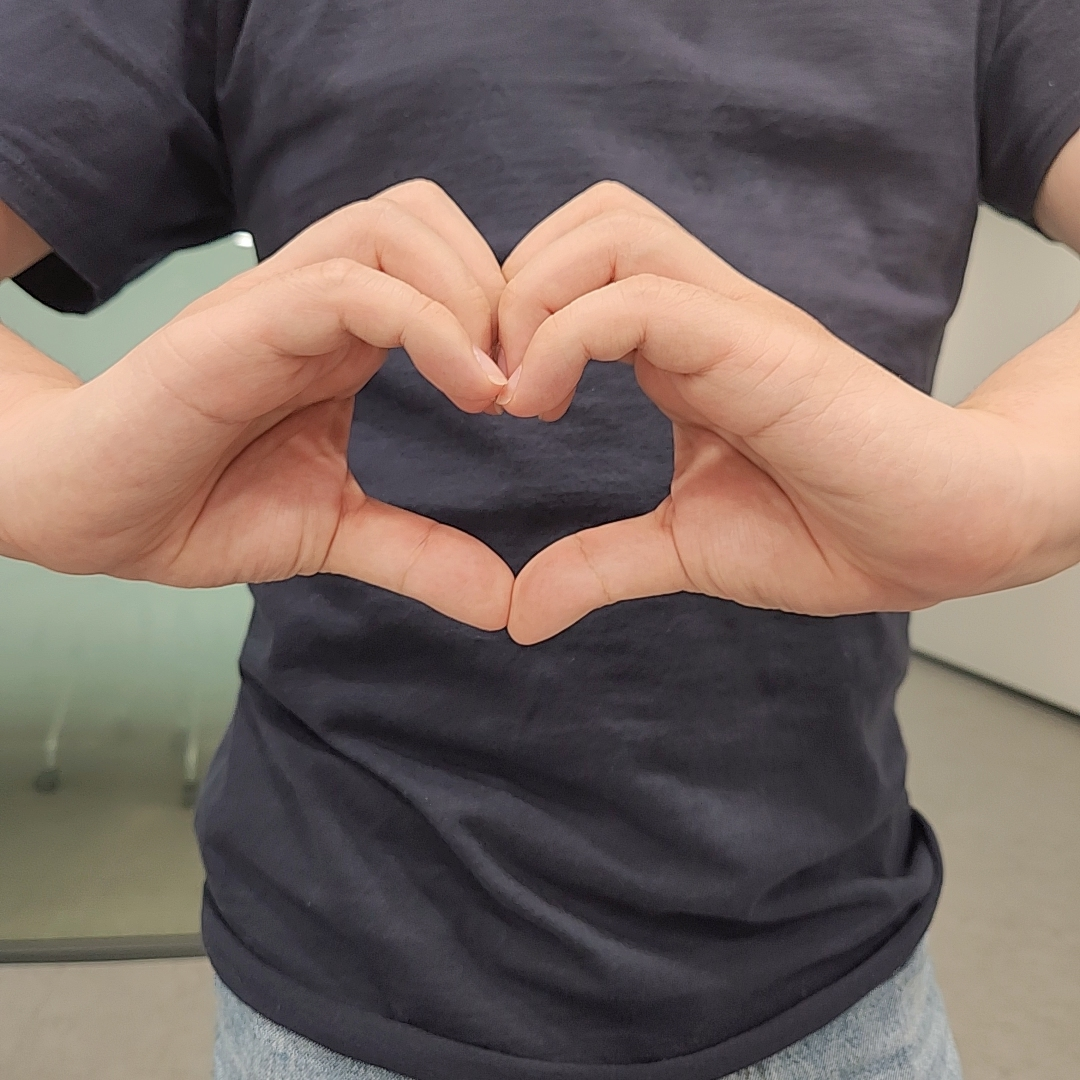heart: (93, 174, 960, 650)
